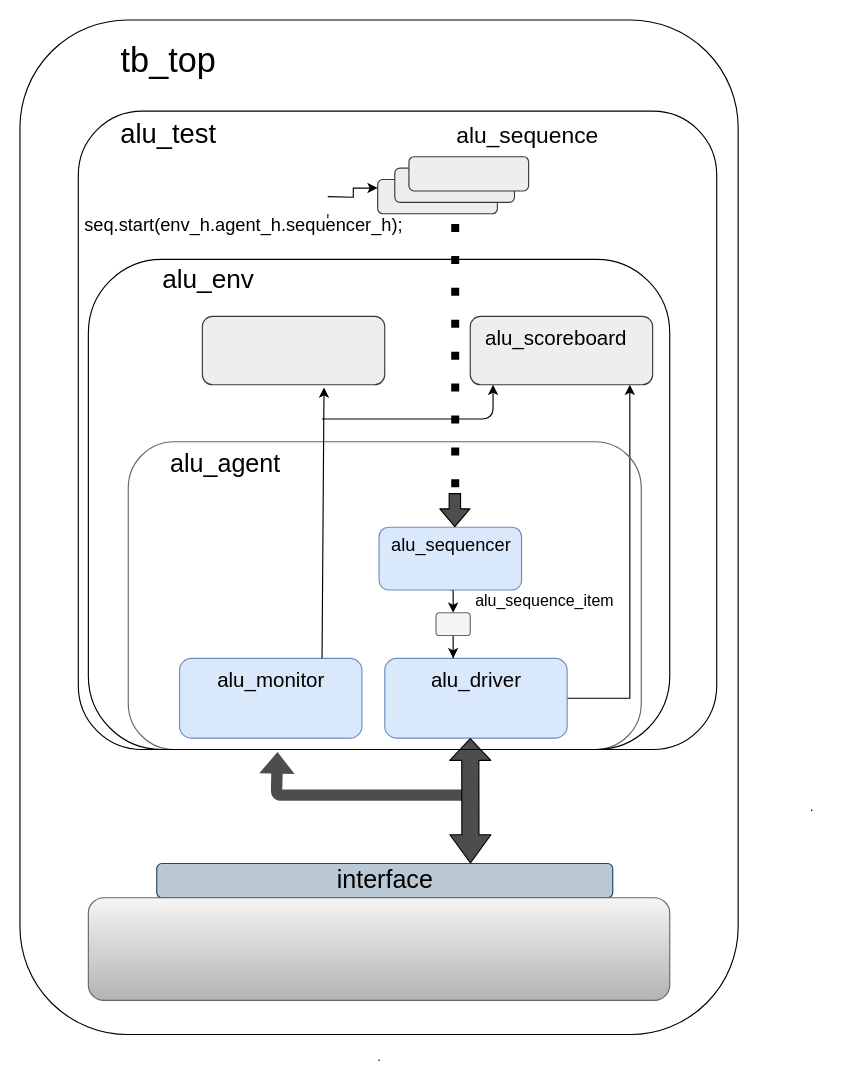
Image size: 855x1089. Some labels were removed from this diagram. Here are the shapes that lost their labels. From the top down, the centre of each, then its label:
point (293, 350): alu_coverage
point (378, 948): ALU (DUT)
